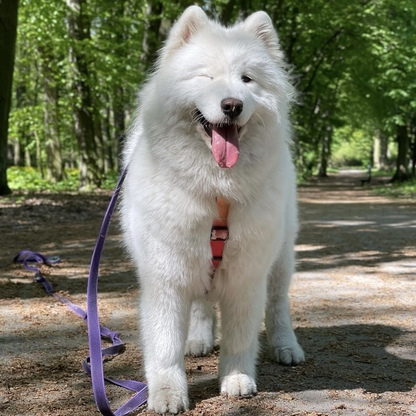samoyed: (110, 2, 313, 416)
